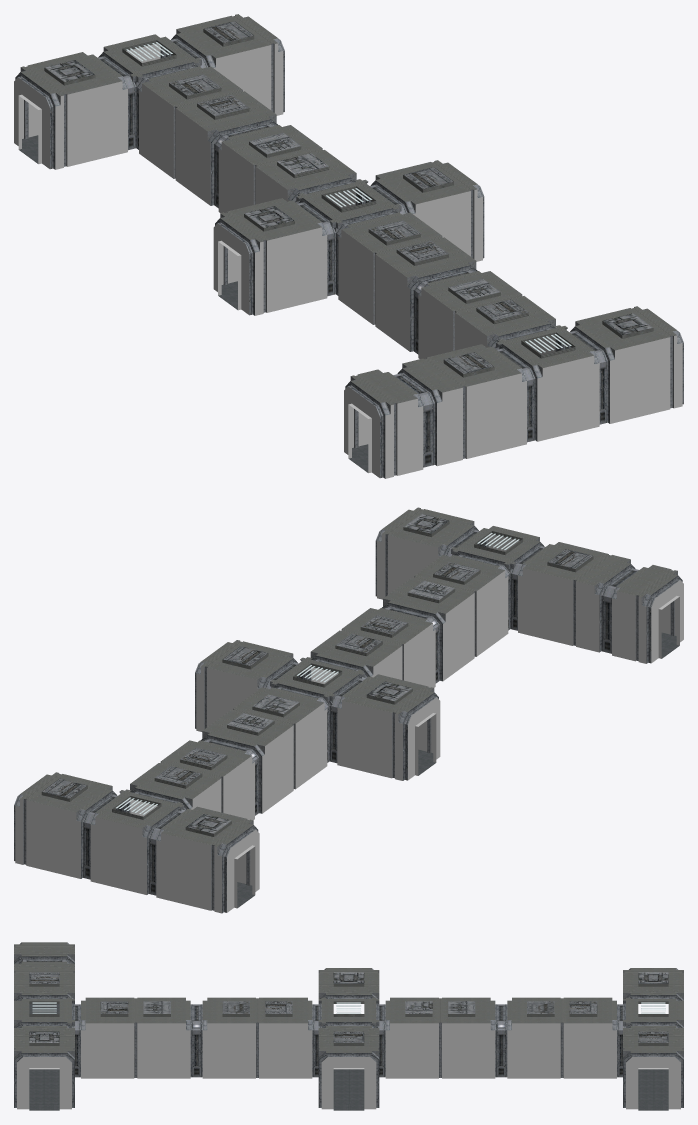
Rendered from poi_all_impl_bunker_small_outpost_s01_r23_cellblock_mesh.fbx.
3 views of the same model, one above another, from view 1: azimuth 30°, elevation 25°; view 2: azimuth 150°, elevation 25°; view 3: azimuth 270°, elevation 25° (orthographic). The views are drawn at different scales.
Visible parts, largest first — view 1: mesh_node; view 2: mesh_node; view 3: mesh_node.
Part boxes in pixels (<box>): mesh_node: <box>14,14,683,478</box>; mesh_node: <box>14,507,683,913</box>; mesh_node: <box>14,942,683,1110</box>.
Size of the model in its own units: 18 by 4.2 by 44.
